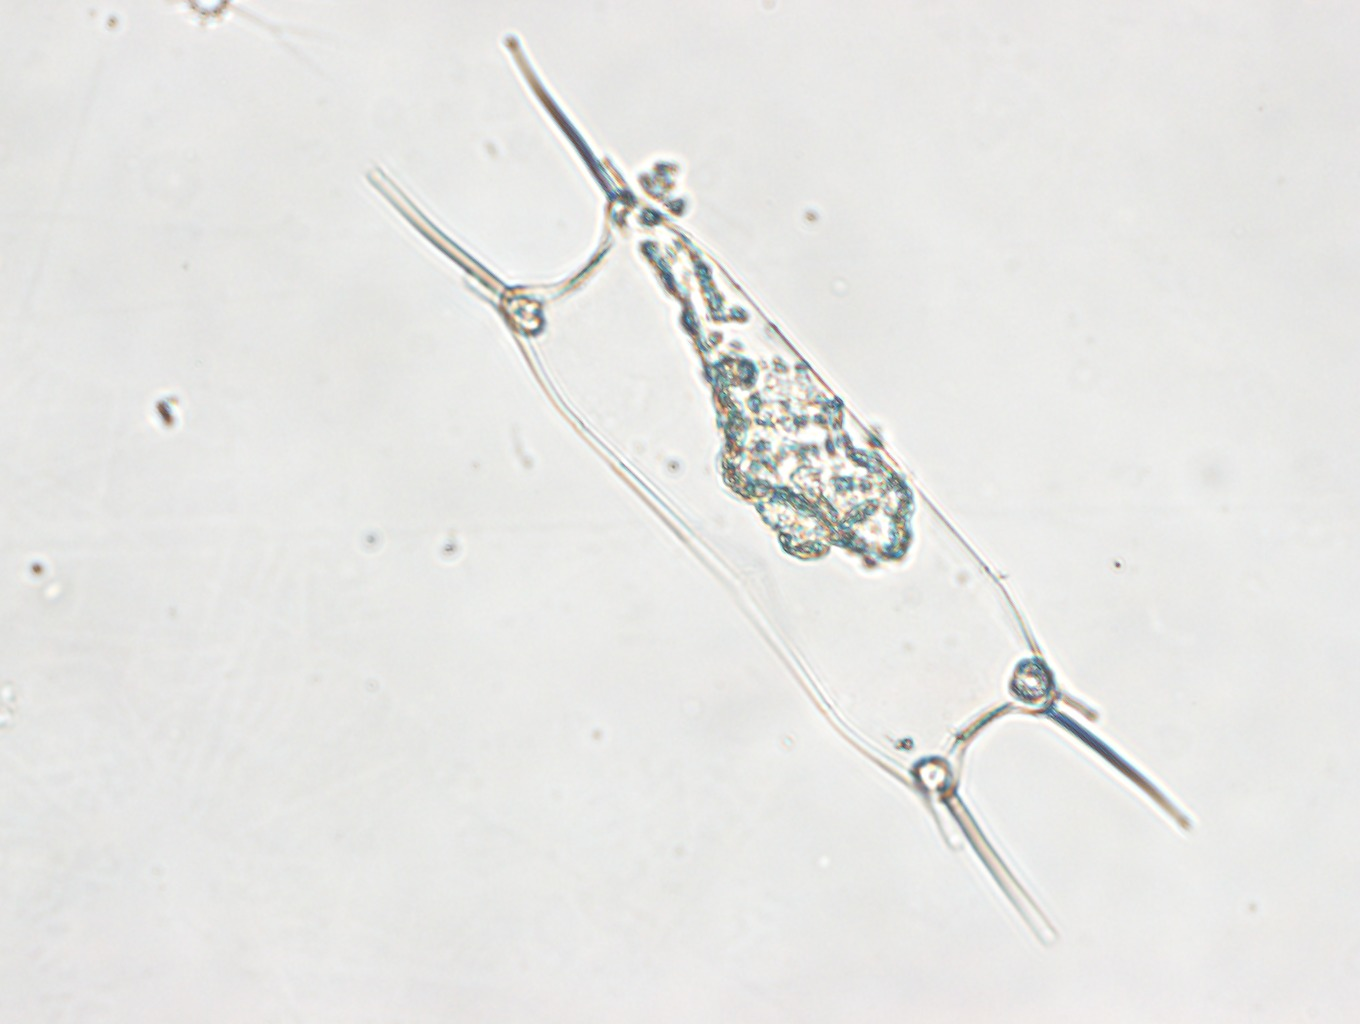biddulphia: (364, 32, 1196, 948)
